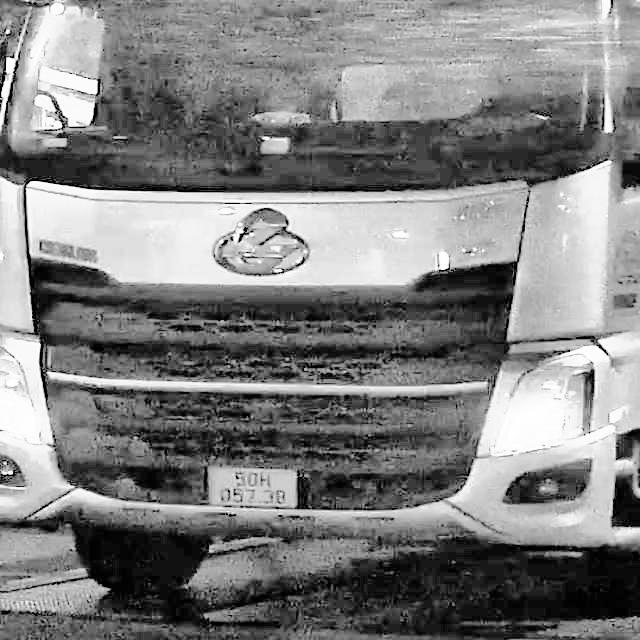Truck: (0, 0, 639, 600)
